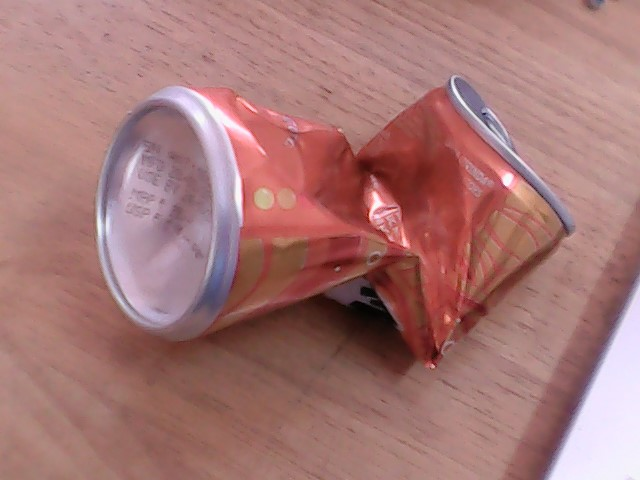Metal: (86, 86, 524, 355)
